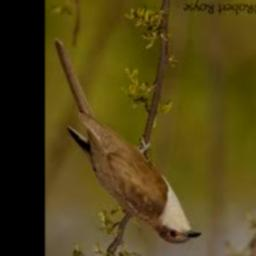Cuckoo: (55, 38, 202, 245)
